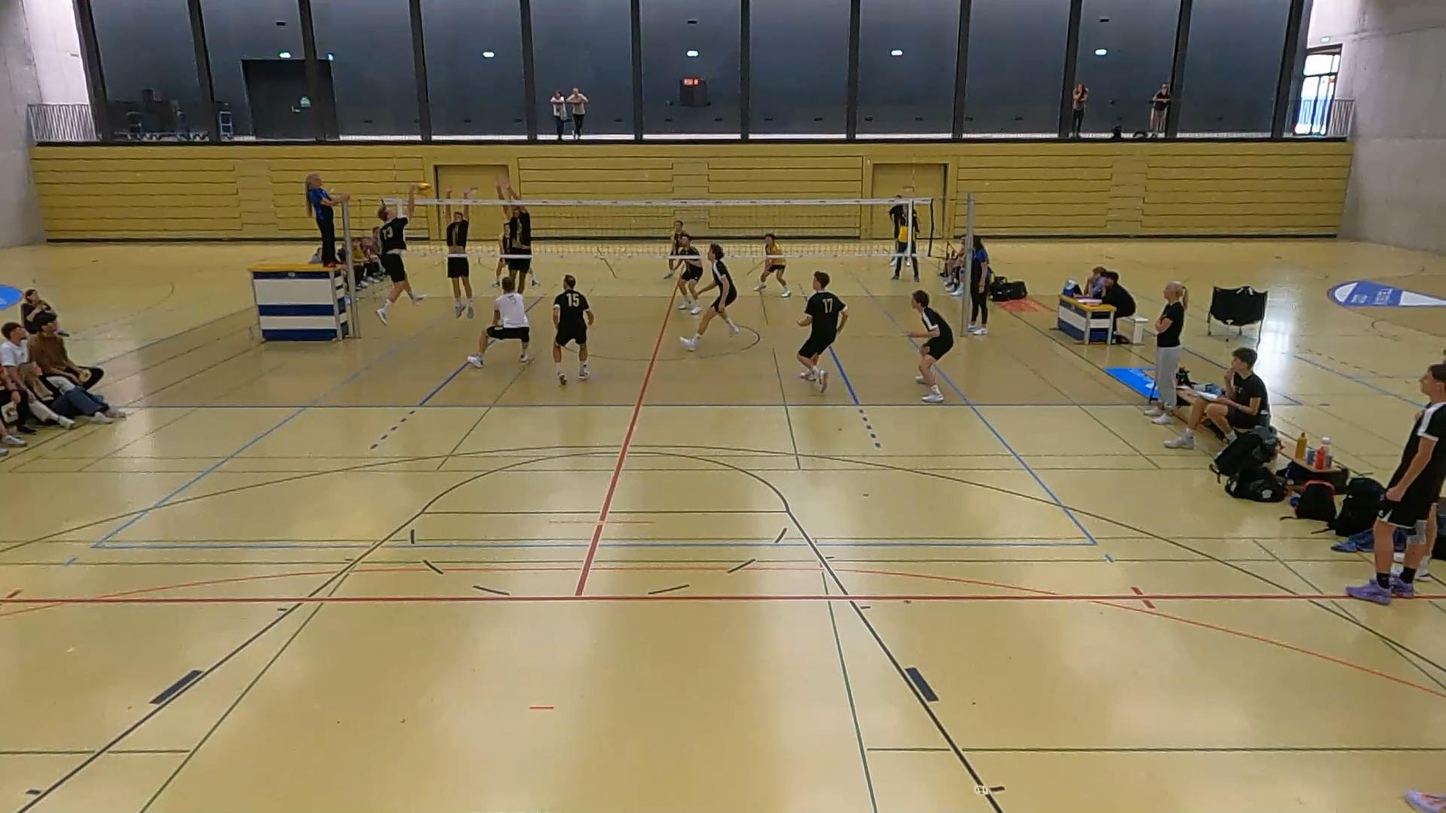Attack: (360, 191, 423, 324)
Block: (495, 181, 536, 296), (443, 184, 476, 320)
Player: (680, 243, 740, 351), (797, 270, 847, 392), (467, 277, 530, 367), (906, 291, 953, 403), (553, 274, 593, 384), (754, 233, 790, 297), (676, 233, 703, 313), (664, 221, 685, 279), (493, 206, 508, 287)
ball: (412, 178, 431, 198)
